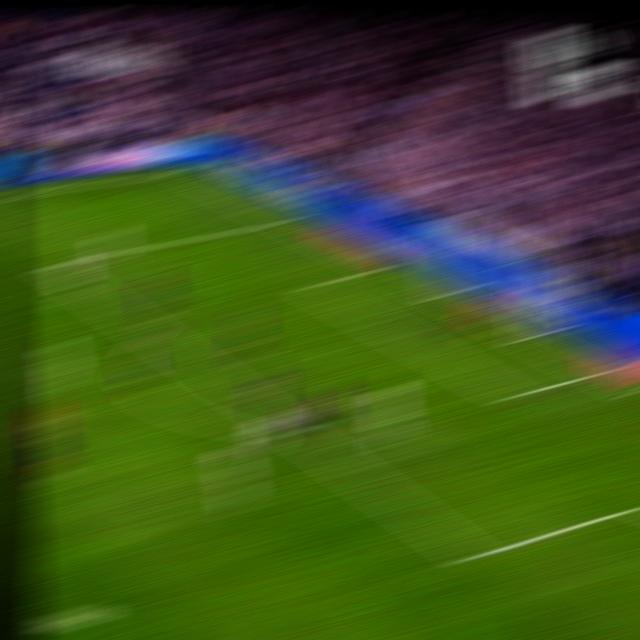bigarea_bottom_inner: (457, 541, 490, 572)
bigarea_top_inner: (38, 257, 64, 271)
bigarea_top_outter: (272, 214, 299, 225)
bottom_arc_area_intersection: (281, 425, 310, 440)
corner: (172, 165, 200, 175)
smallarea_bottom_inner: (498, 384, 528, 405)
smallarea_bottom_outter: (583, 364, 612, 378)
smallarea_top_inner: (298, 279, 323, 291)
top_arc_area_intersection: (136, 324, 165, 339)
